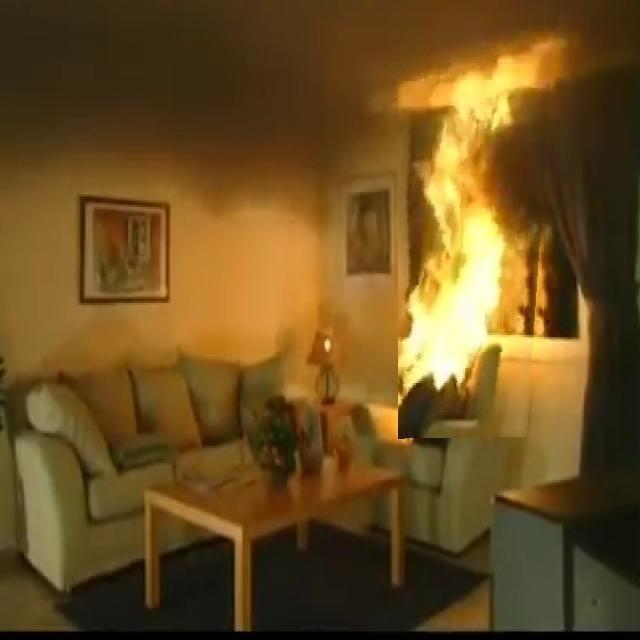smoke: (398, 41, 554, 402)
